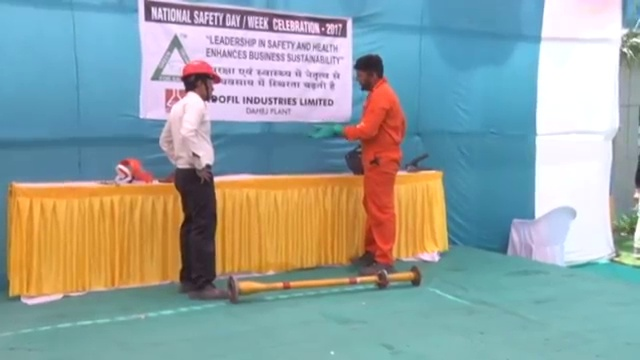helmet: (180, 59, 221, 83)
helmet_off: (353, 52, 383, 93)
helmet_on: (180, 58, 222, 102)
person: (156, 58, 230, 301), (348, 51, 404, 274)
